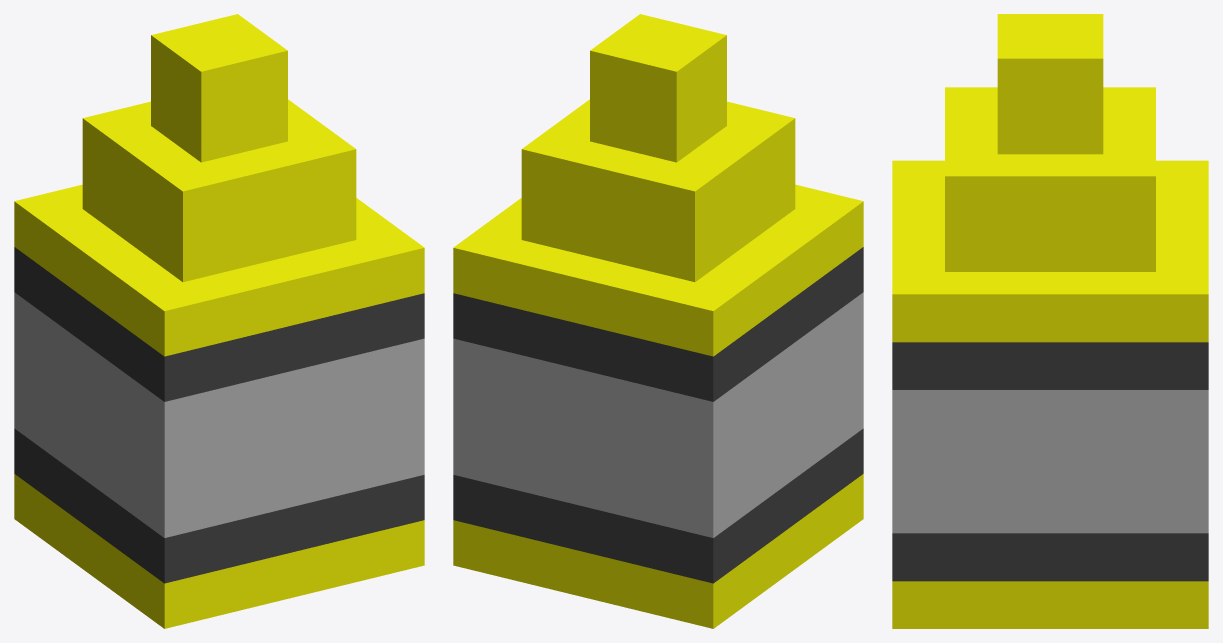
File: mustard.obj
3 views of the same model, side by side, from view 1: azimuth 30°, elevation 25°; view 2: azimuth 150°, elevation 25°; view 3: azimuth 270°, elevation 25° (orthographic). The views are drawn at different scales.
Visible parts, largest first — view 1: mustard; view 2: mustard; view 3: mustard.
Boxes of the visible parts, <box> form: mustard: <box>14,14,424,628</box>; mustard: <box>453,14,863,628</box>; mustard: <box>892,14,1208,628</box>.
Bounding box in the file's own units: 6 × 11 × 6.
Materials: 1 (1 with a texture image).
